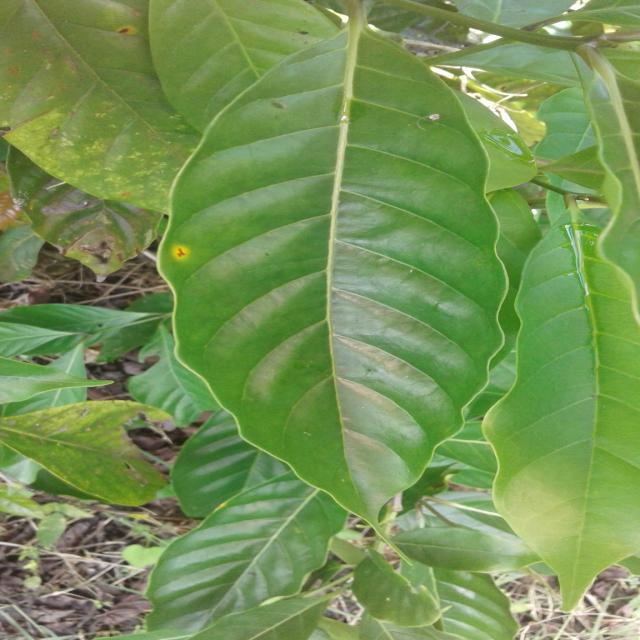Enfermedad-Roya: (153, 30, 512, 549)
